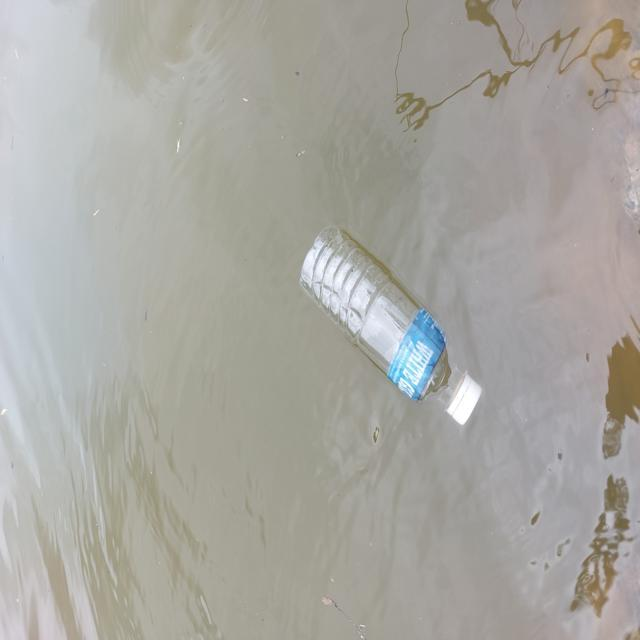waterbottle: (280, 223, 488, 427)
